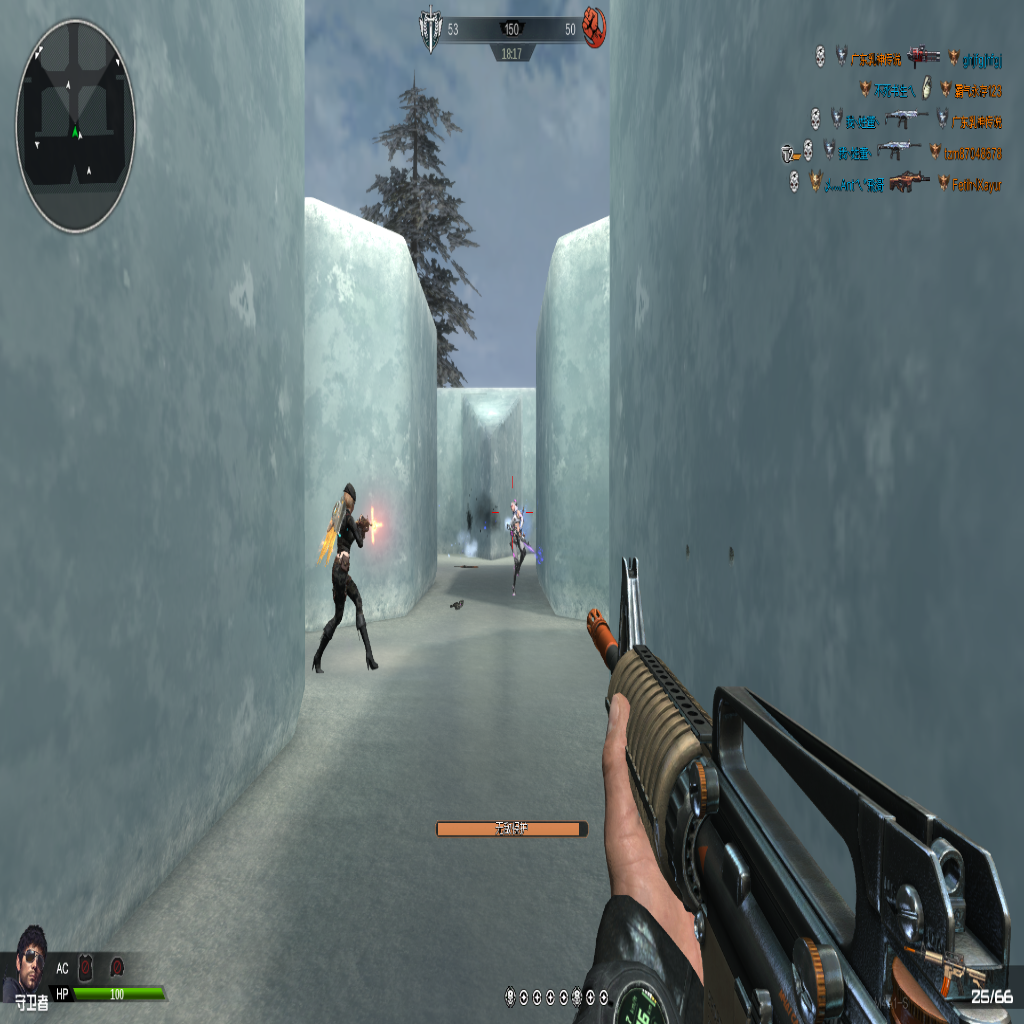tt: (507, 503, 534, 594)
